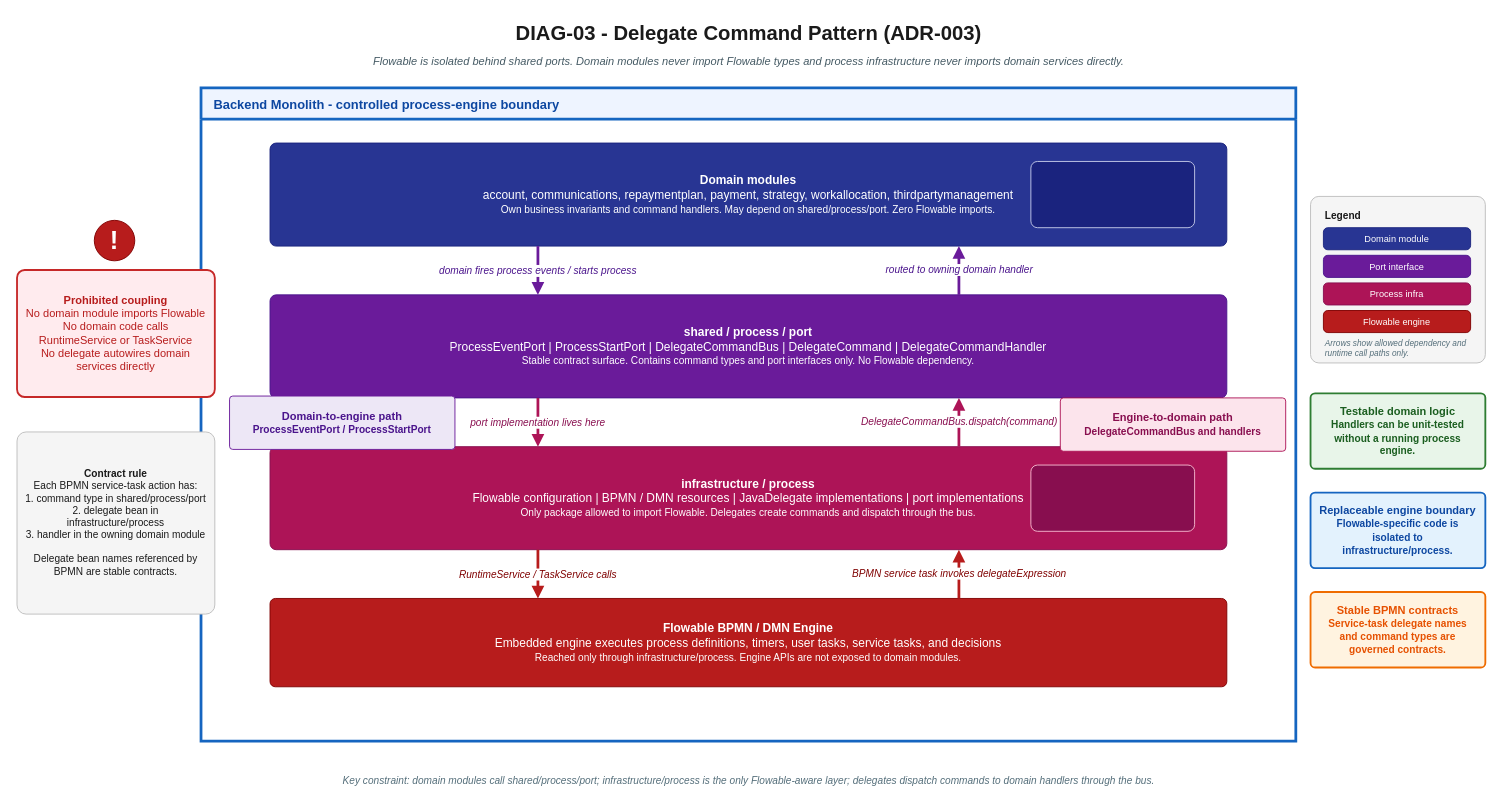
The diagram is 1501 pixels wide and 808 high, and some of its shapes have lost their labels. Here are the shapes that lost their labels. From the top down, the centre of each, then its label:
At (1112,194): "Command handlers plain Spring beans no DelegateExecution".
At (1112,497): "JavaDelegate beans read process vars dispatch commands".
